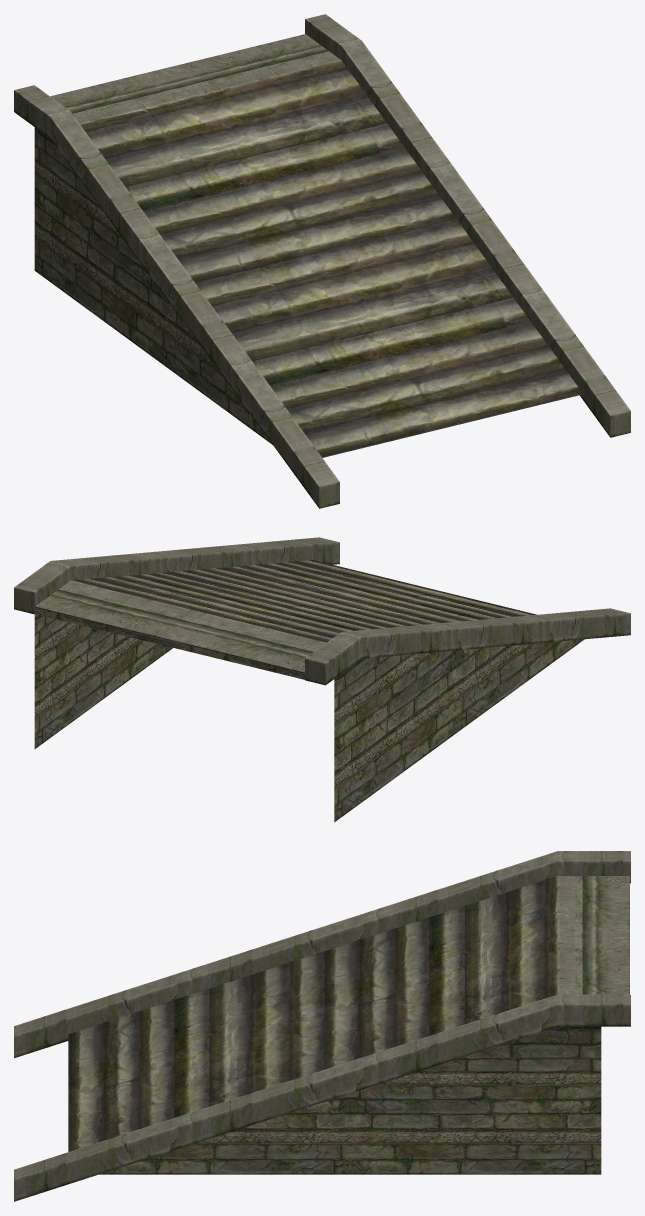
Rendered from taijie_jx_01.fbx.
3 renders of one model, top to bottom at view 1: azimuth 30°, elevation 25°; view 2: azimuth 150°, elevation 25°; view 3: azimuth 270°, elevation 25°, orthographic.
Visible parts, largest first — view 1: taijie_jiangxia_01; view 2: taijie_jiangxia_01; view 3: taijie_jiangxia_01.
Boxes of the visible parts, x1,y1,x2,y2 form: taijie_jiangxia_01: (14, 14, 630, 508); taijie_jiangxia_01: (14, 537, 630, 822); taijie_jiangxia_01: (14, 851, 630, 1201).
Size of what is drawn, in the model's own units: 1040 by 622 by 1765.
